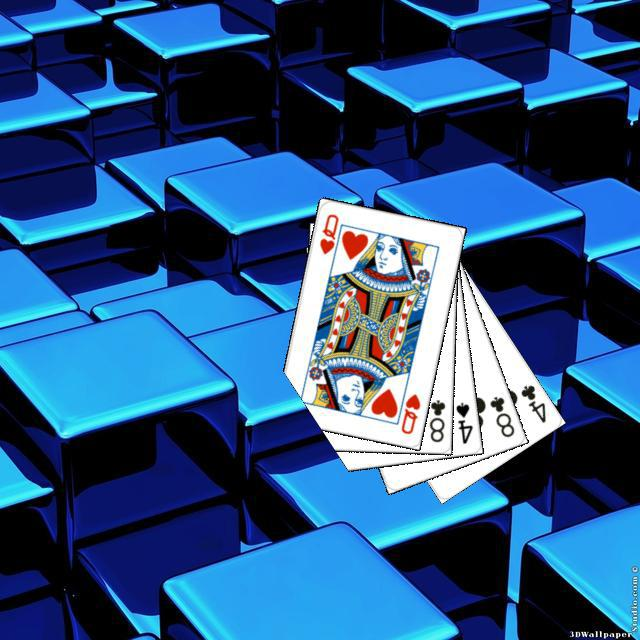4c: (516, 380, 548, 425)
4s: (451, 397, 474, 445)
8c: (485, 391, 516, 439), (425, 395, 446, 444)
Qh: (315, 209, 344, 263), (396, 388, 422, 436)
